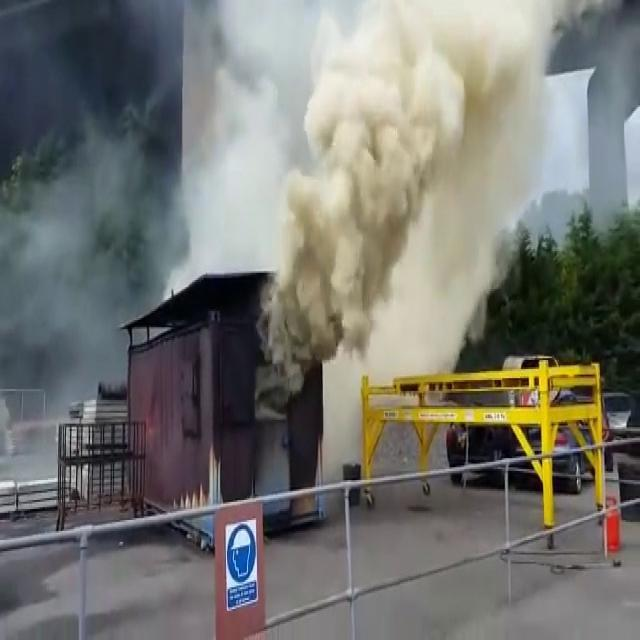Smoke: (249, 32, 457, 362)
